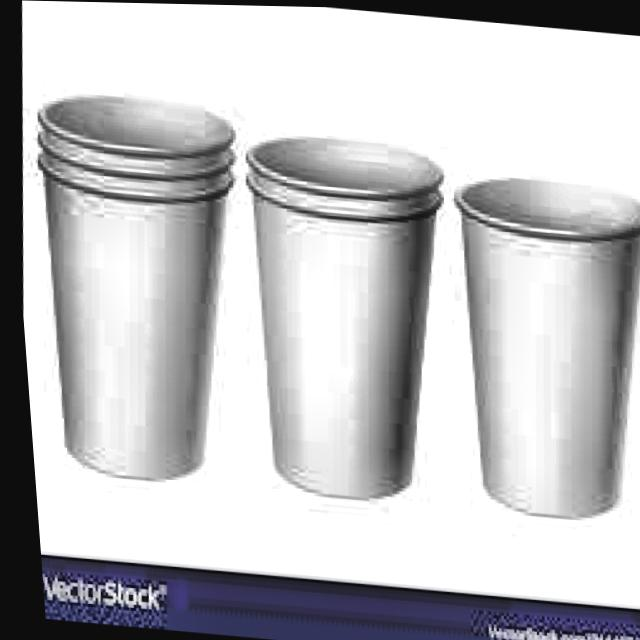Cup: (4, 75, 258, 498), (215, 115, 456, 515), (434, 164, 640, 528)
